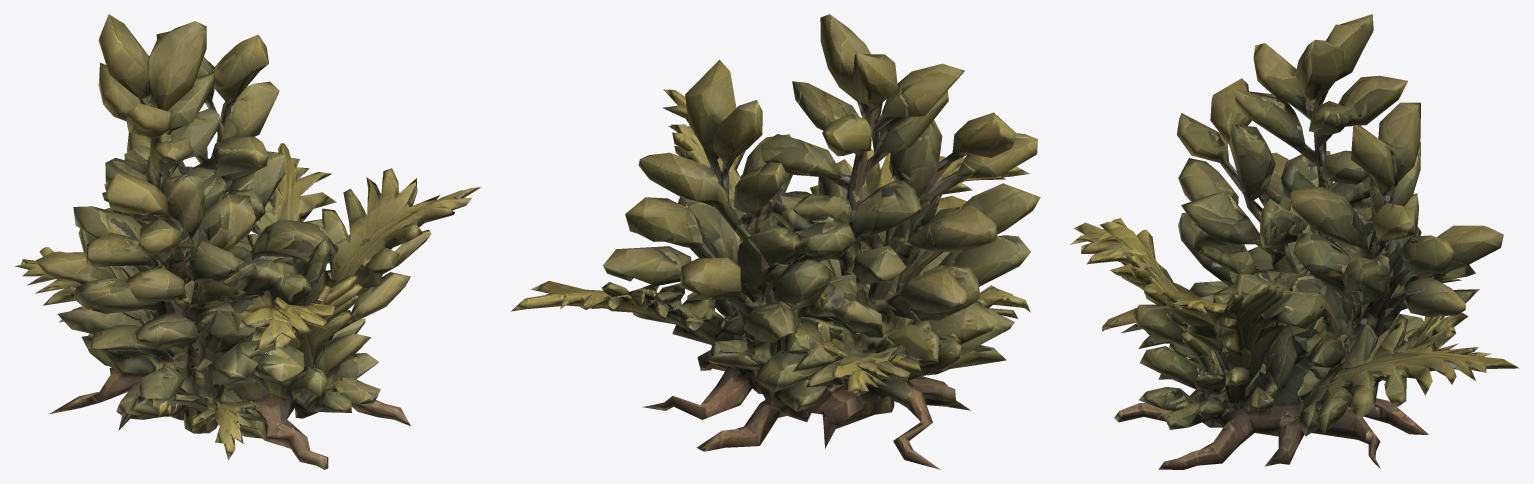
File: P03_Undergrowth.glb
3 renders of one model, left to right at view 1: azimuth 30°, elevation 25°; view 2: azimuth 150°, elevation 25°; view 3: azimuth 270°, elevation 25°, orthographic. The views are drawn at different scales.
Visible parts, largest first — view 1: texture_mapping; view 2: texture_mapping; view 3: texture_mapping.
Part boxes in pixels (x1,y1,x2,y2): texture_mapping: [15, 14, 480, 469]; texture_mapping: [511, 14, 1040, 469]; texture_mapping: [1069, 14, 1519, 469].
Size of the model in its own units: 0.8568 by 0.8666 by 0.9601.
1 material, 1 textured.
